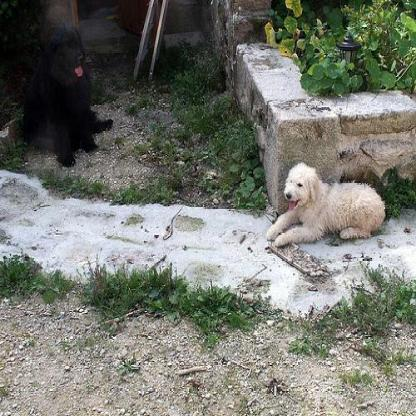komondor: (267, 161, 386, 247)
